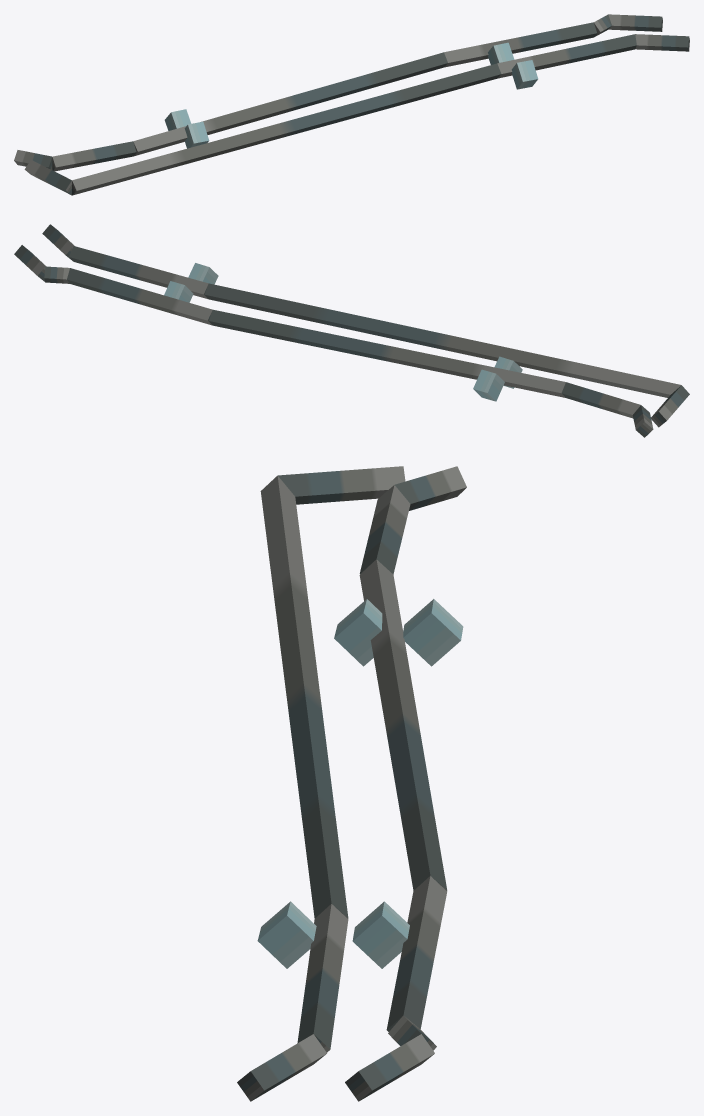
The model's file is pz_native_electrical_193.obj.
3 views of the same model, one above another, from view 1: azimuth 30°, elevation 25°; view 2: azimuth 150°, elevation 25°; view 3: azimuth 270°, elevation 25° (orthographic). The views are drawn at different scales.
Visible parts, largest first — view 1: conduit, conduit_end; view 2: conduit, conduit_end; view 3: conduit, conduit_end.
Part boxes in pixels (<box>): conduit: <box>14,14,688,195</box>; conduit_end: <box>49,17,689,195</box>; conduit: <box>14,224,689,429</box>; conduit_end: <box>38,246,666,437</box>; conduit: <box>251,466,466,1101</box>; conduit_end: <box>237,560,460,1101</box>.
Size of the model in its own units: 1.03 by 0.042 by 0.1634.
1 material, 1 textured.
